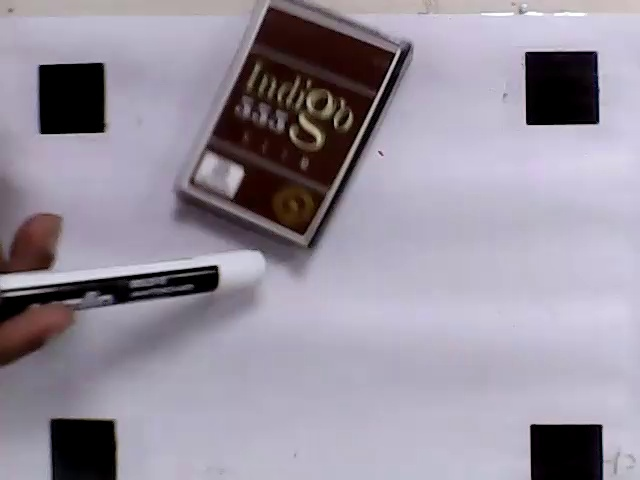BEX: (184, 2, 400, 241)
